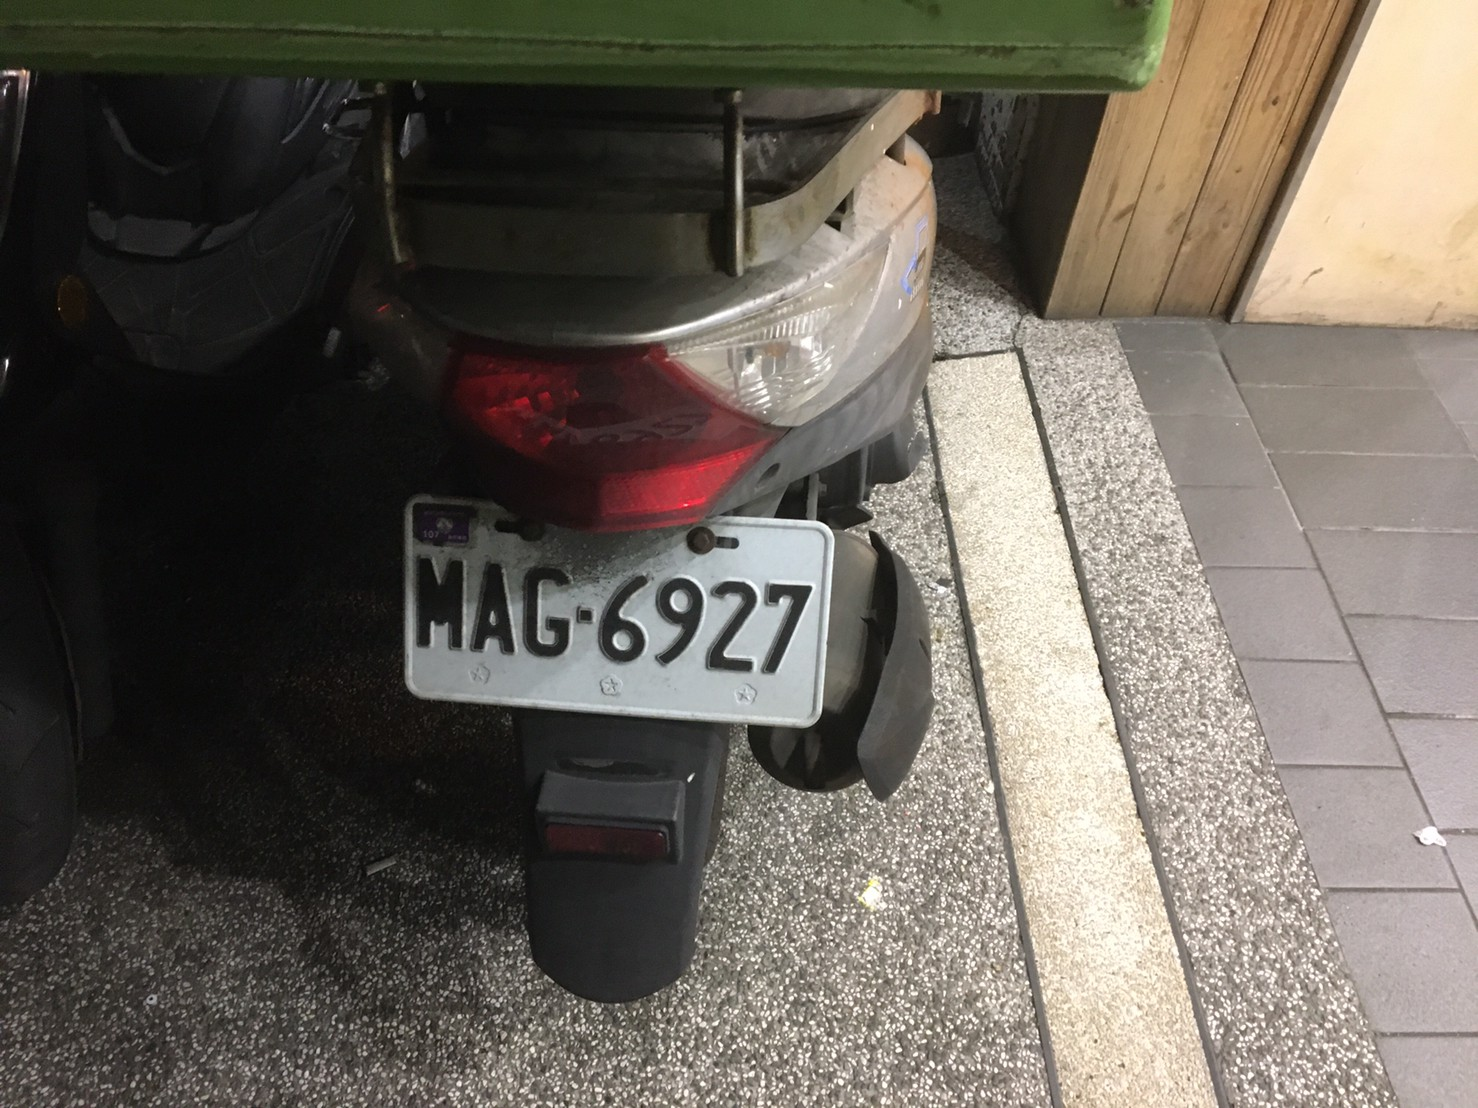LP: (397, 486, 827, 734)
